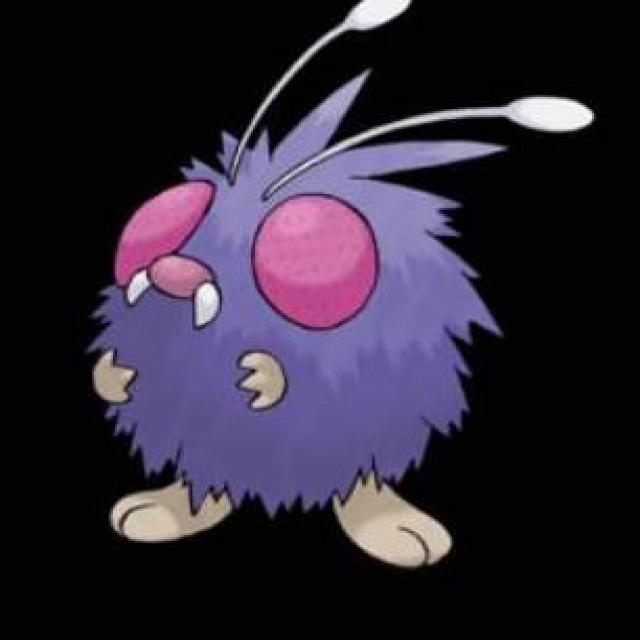Venonat: (86, 90, 497, 568)
